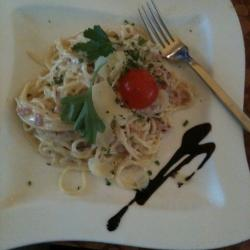carbonara: (28, 21, 188, 191)
